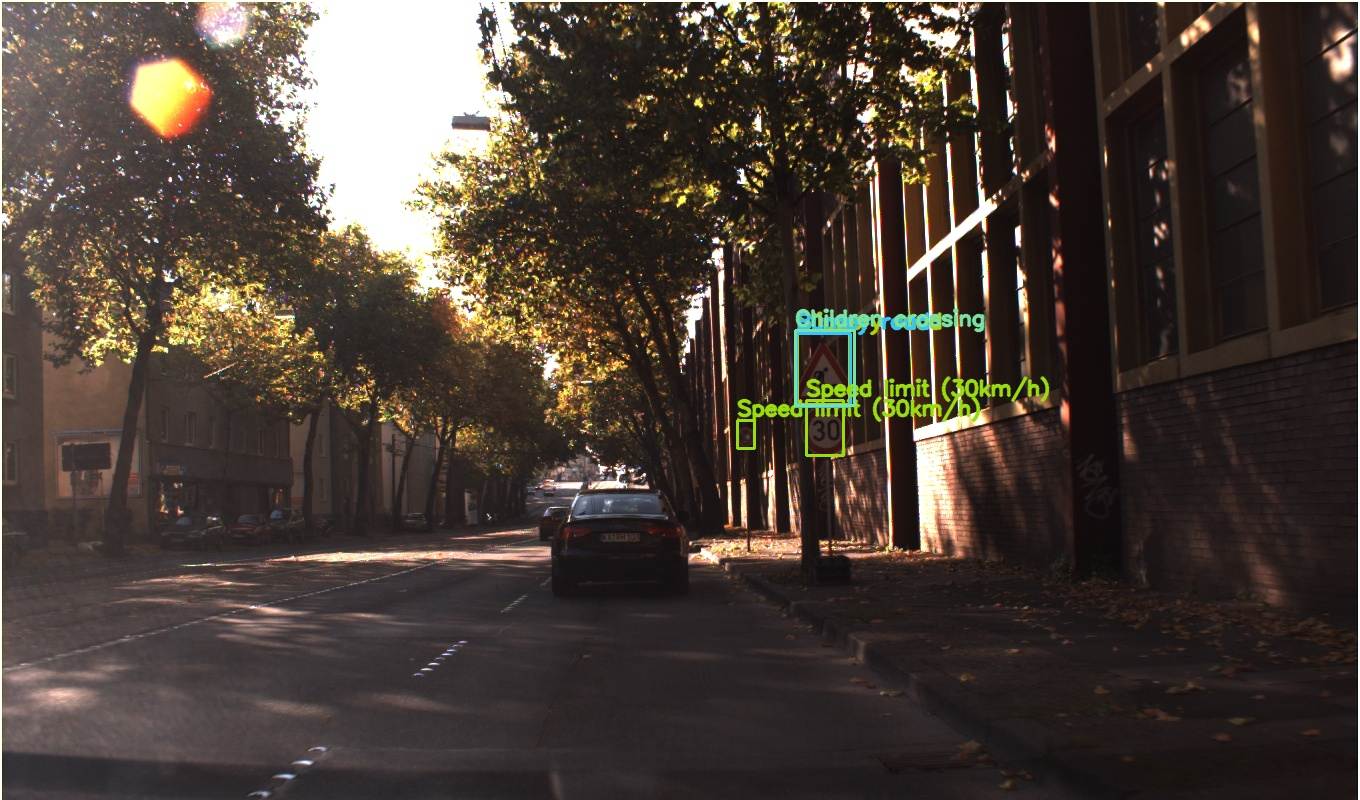Priority road: (968, 218, 1037, 287)
